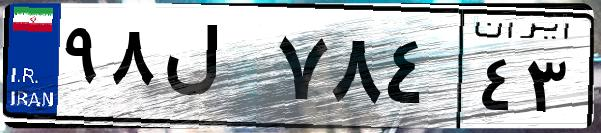3: (525, 38, 570, 115)
4: (385, 28, 445, 110), (475, 38, 525, 113)
7: (270, 28, 330, 110)
8: (330, 28, 385, 110), (110, 28, 158, 98)
9: (57, 26, 110, 100)
ل: (158, 20, 270, 120)
